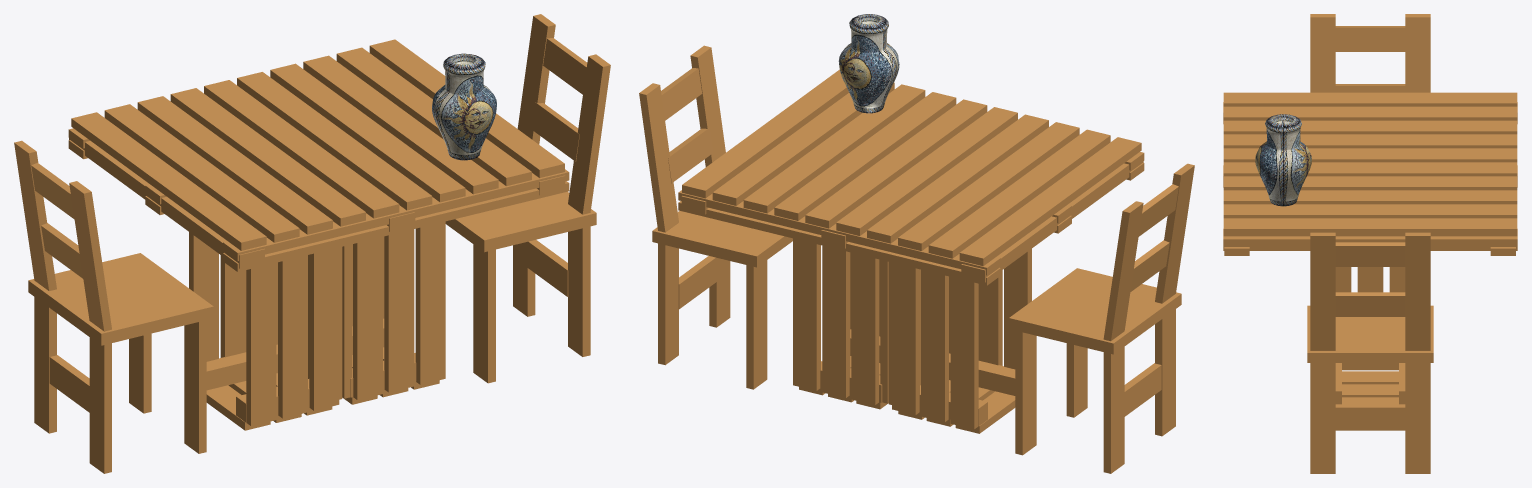
Rendered from comedor.fbx.
The picture shows the model from 3 angles, left to right: view 1: azimuth 30°, elevation 25°; view 2: azimuth 150°, elevation 25°; view 3: azimuth 270°, elevation 25°; orthographic projection. The views are drawn at different scales.
Parts seen in each view (by area): view 1: palet, tablon.003, huacal1, tablon.001, huacal2, BézierCurve; view 2: palet, tablon.003, huacal1, tablon.001, huacal2, BézierCurve; view 3: palet, tablon.001, tablon.003, huacal2, BézierCurve.
Boxes of the visible parts, x1=… form: palet: x1=68, y1=39, x2=569, y2=271; tablon.003: x1=14, y1=140, x2=213, y2=473; huacal1: x1=189, y1=232, x2=342, y2=430; tablon.001: x1=445, y1=14, x2=610, y2=383; huacal2: x1=342, y1=221, x2=445, y2=404; BézierCurve: x1=432, y1=53, x2=496, y2=160; palet: x1=678, y1=69, x2=1144, y2=285; tablon.003: x1=1009, y1=163, x2=1194, y2=473; huacal1: x1=888, y1=248, x2=1031, y2=433; tablon.001: x1=639, y1=45, x2=792, y2=389; huacal2: x1=793, y1=238, x2=888, y2=409; BézierCurve: x1=838, y1=14, x2=899, y2=113; palet: x1=1223, y1=92, x2=1517, y2=255; tablon.001: x1=1307, y1=232, x2=1433, y2=473; tablon.003: x1=1310, y1=14, x2=1430, y2=92; huacal2: x1=1335, y1=267, x2=1405, y2=404; BézierCurve: x1=1255, y1=114, x2=1311, y2=206.
Bounding box in the file's own units: 2097 × 1310 × 1175.
Materials: 5 (1 with a texture image).
